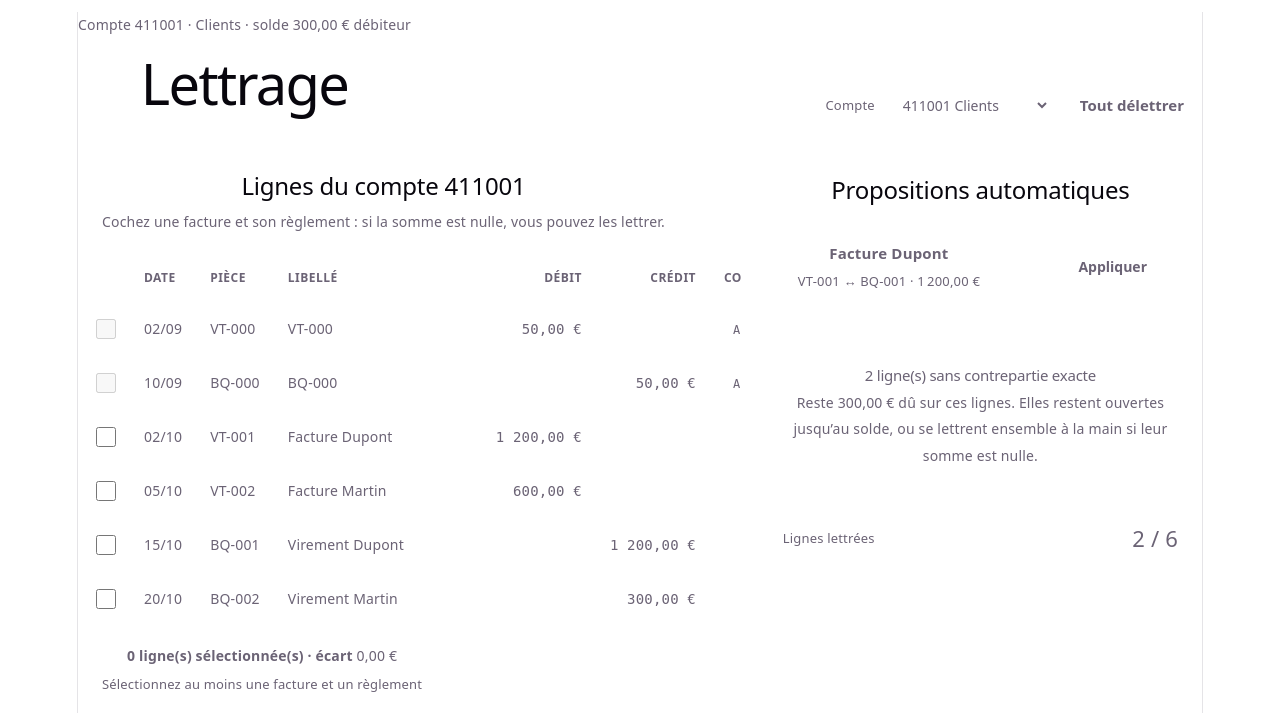
Scenario: LettrageView › applique une proposition puis recharge le compte
Click the button with class "appliquer-button".
click(1113, 267)  # box top-left (1062, 245), bottom-right (1163, 289)
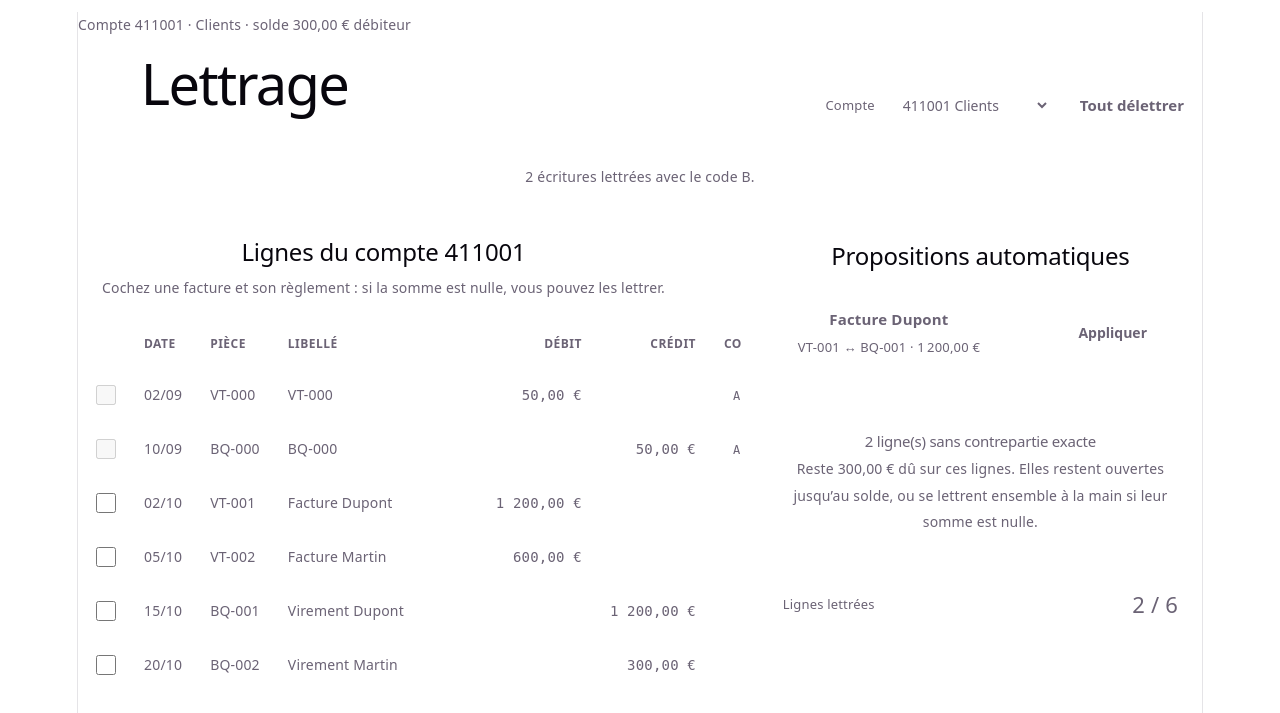
Check: the message with class "lettrage-success" reads "2 écritures lettrées avec le code B.", box top-left (525, 167), bottom-right (755, 186)
